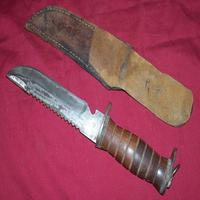knife: (2, 59, 181, 185)
